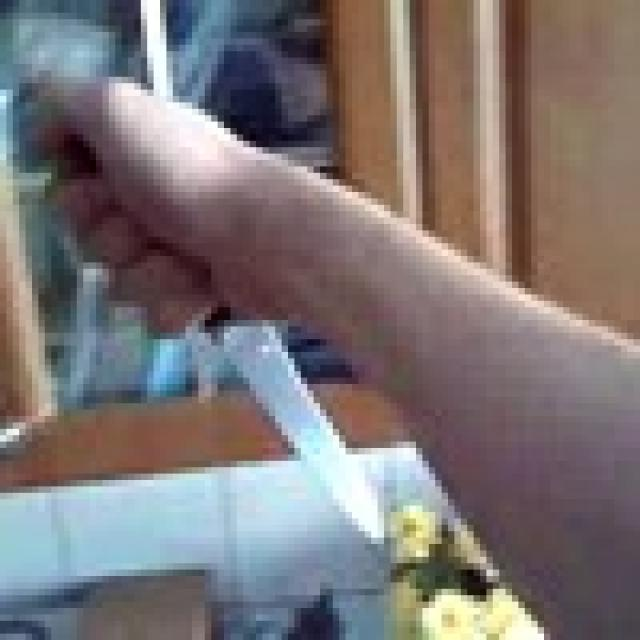Knife: (58, 128, 384, 550)
